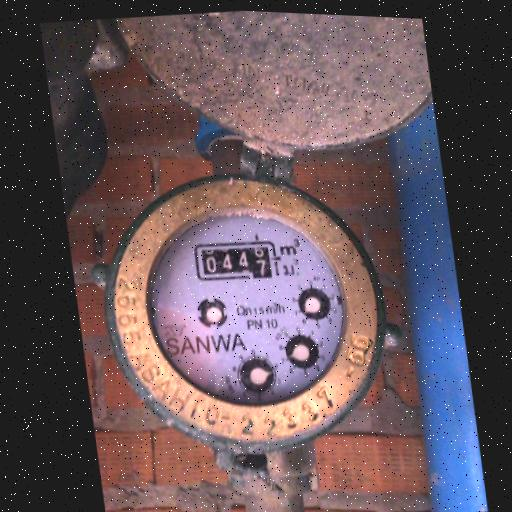0: (200, 249, 220, 276)
4: (231, 246, 253, 274), (216, 248, 236, 276)
7: (248, 246, 272, 279)
border_water_meter_number: (191, 235, 281, 287)
